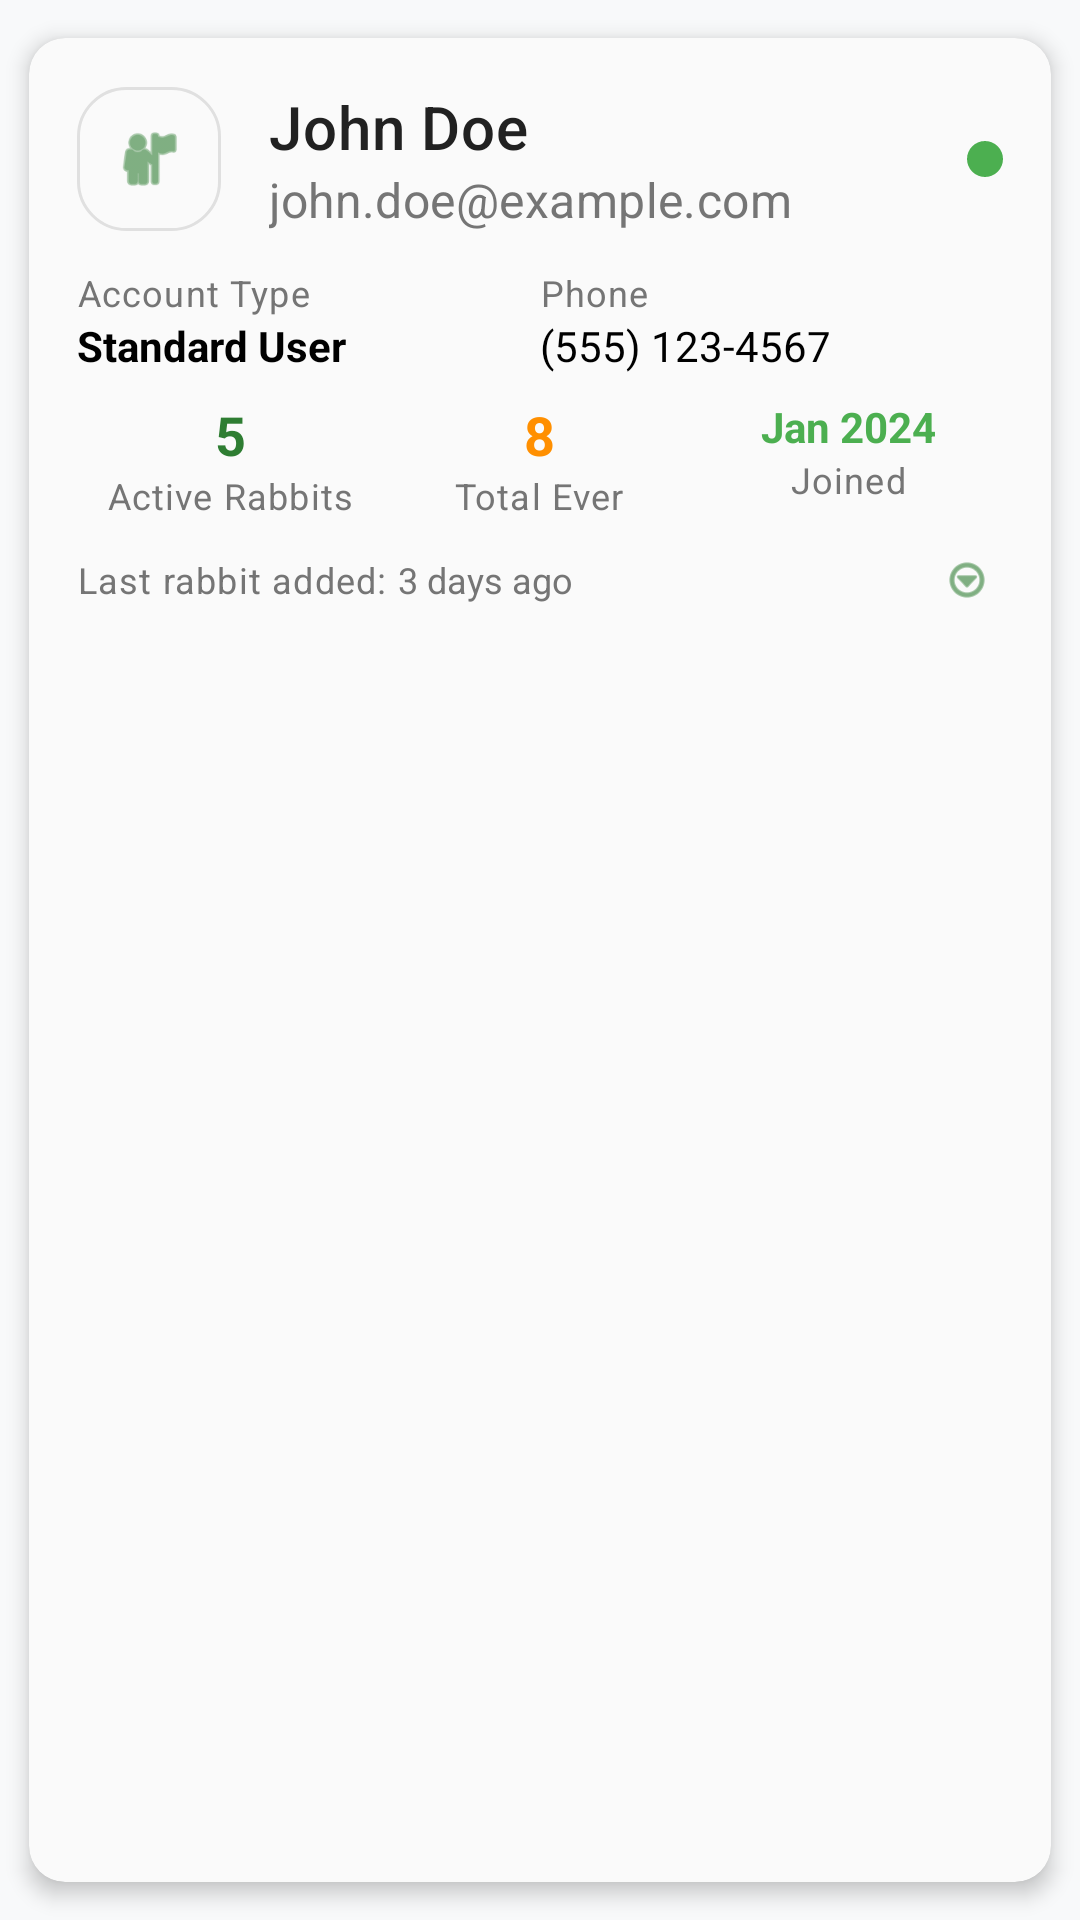

Icon bounding boxes for this 1080 x 1920 phone screenshot, format (x1, y1, x2, y2):
myplaces: (77, 87, 221, 231)
User actions: (949, 562, 985, 598)
